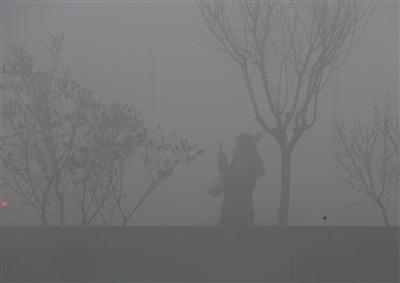person: (217, 133, 266, 282)
